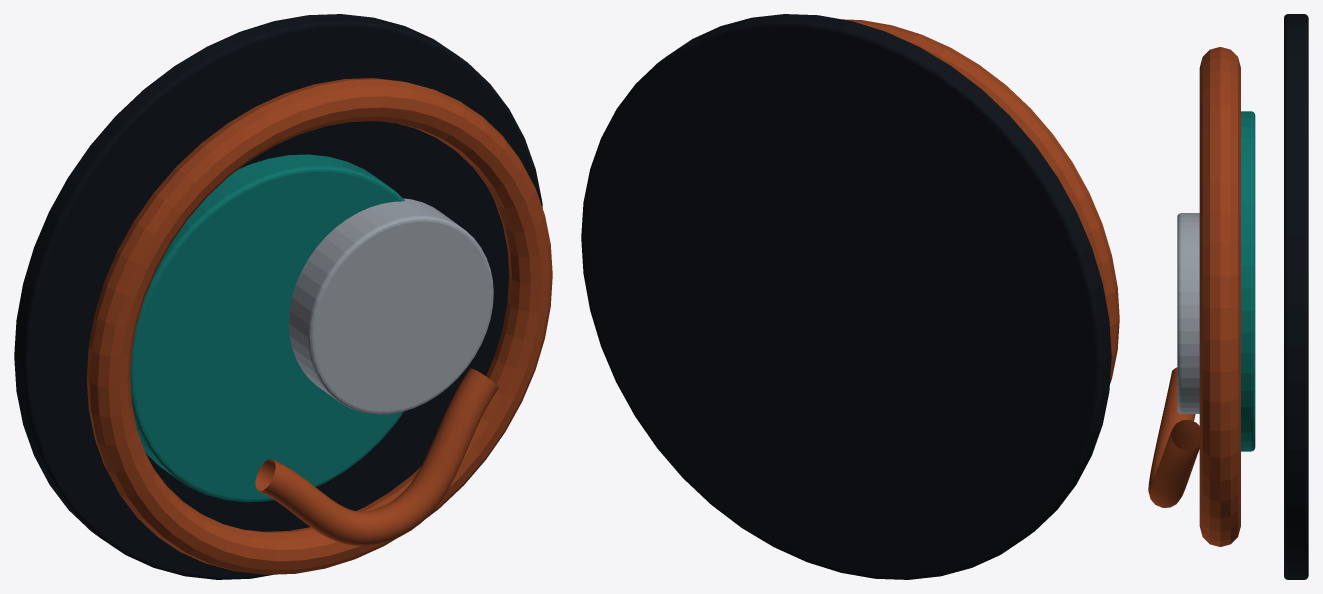
File: k80-qinghuafu-moon-pull.glb
3 views of the same model, side by side, from view 1: azimuth 30°, elevation 25°; view 2: azimuth 150°, elevation 25°; view 3: azimuth 270°, elevation 25° (orthographic). The views are drawn at different scales.
Parts seen in each view (by area): view 1: Qinghuafu moon backplate, Qinghuafu moon jade centre, Qinghuafu moon brass halo, Qinghuafu moon silver disc, Qinghuafu crescent grip; view 2: Qinghuafu moon backplate, Qinghuafu moon brass halo; view 3: Qinghuafu moon brass halo, Qinghuafu moon backplate, Qinghuafu moon jade centre, Qinghuafu moon silver disc, Qinghuafu crescent grip.
Boxes of the visible parts, left/top/right/bottom form: Qinghuafu moon backplate: left=14, top=14, right=542, bottom=579; Qinghuafu moon jade centre: left=130, top=154, right=404, bottom=502; Qinghuafu moon brass halo: left=86, top=78, right=552, bottom=574; Qinghuafu moon silver disc: left=288, top=198, right=493, bottom=414; Qinghuafu crescent grip: left=255, top=368, right=498, bottom=545; Qinghuafu moon backplate: left=581, top=14, right=1111, bottom=579; Qinghuafu moon brass halo: left=843, top=19, right=1119, bottom=383; Qinghuafu moon brass halo: left=1199, top=47, right=1240, bottom=546; Qinghuafu moon backplate: left=1284, top=14, right=1308, bottom=579; Qinghuafu moon jade centre: left=1241, top=111, right=1255, bottom=451; Qinghuafu moon silver disc: left=1177, top=213, right=1199, bottom=413; Qinghuafu crescent grip: left=1148, top=367, right=1199, bottom=507.
Bounding box in the file's own units: 0.276 × 0.276 × 0.078.
